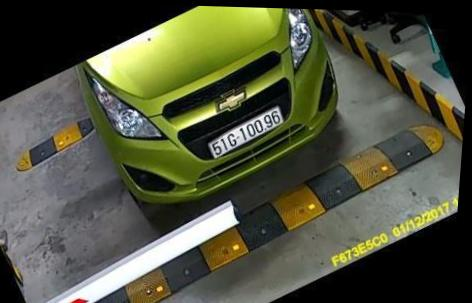License_Plate: (206, 105, 291, 172)
